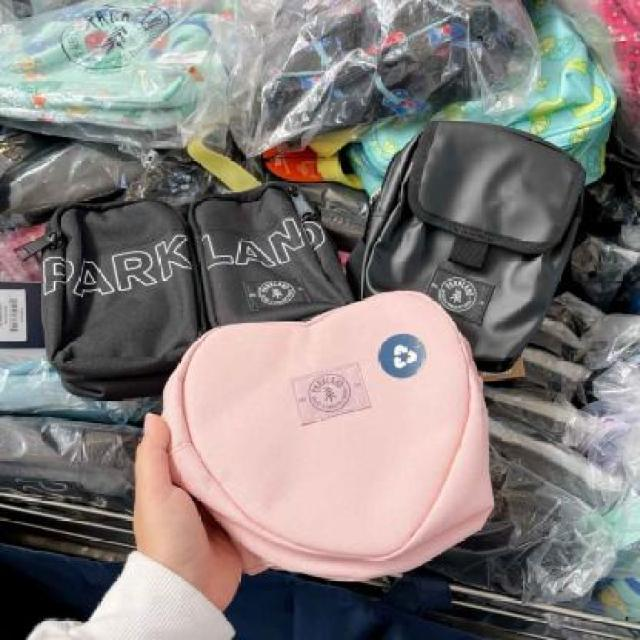Bag: (103, 293, 540, 595), (382, 80, 596, 362), (19, 175, 212, 396), (184, 150, 356, 378)
